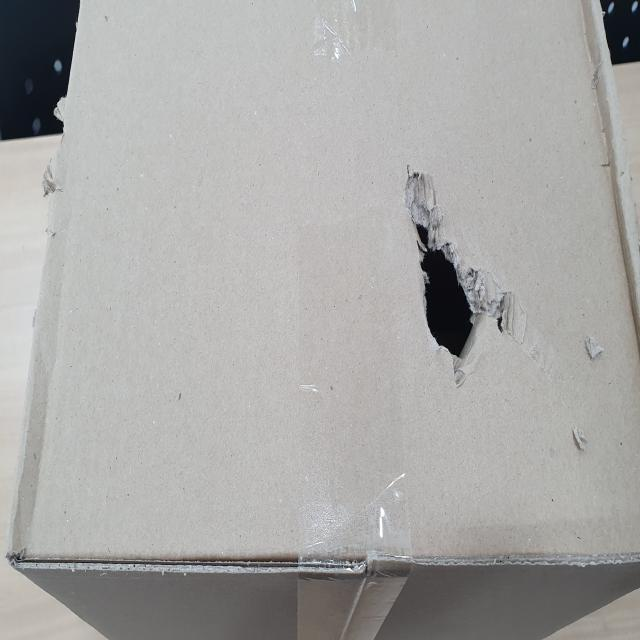hole: (395, 168, 529, 392)
